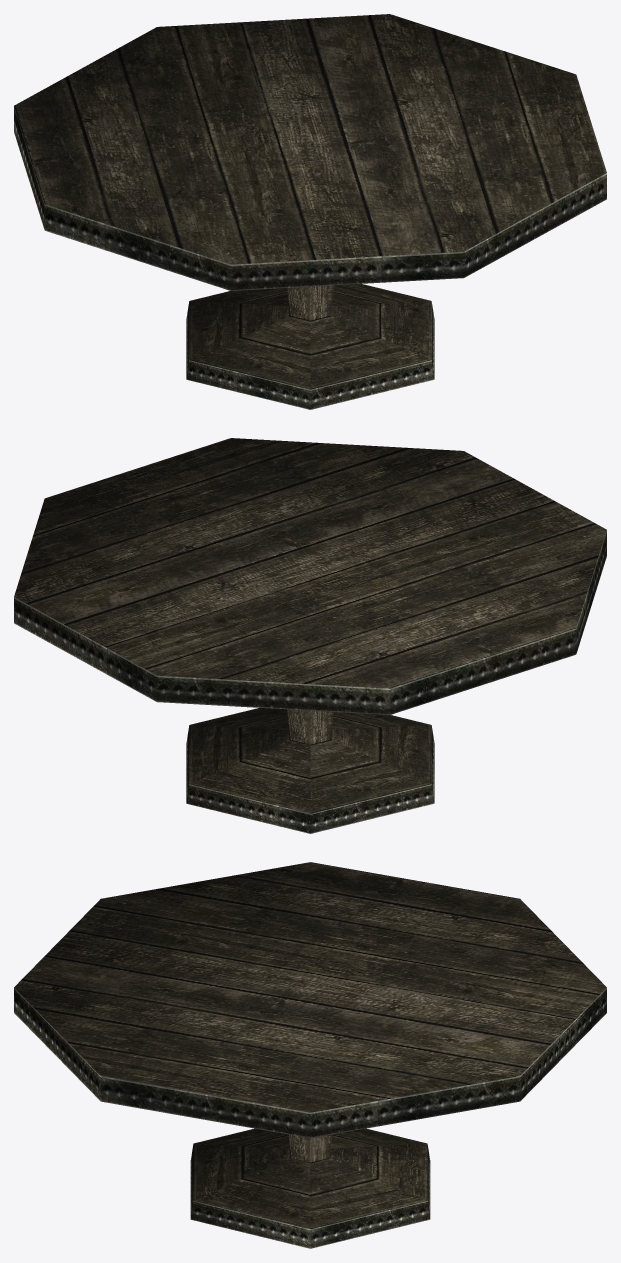
Rendered from DT_TABLE_01.glb.
3 renders of one model, top to bottom at view 1: azimuth 30°, elevation 25°; view 2: azimuth 150°, elevation 25°; view 3: azimuth 270°, elevation 25°, orthographic. The views are drawn at different scales.
Visible parts, largest first — view 1: Mesh; view 2: Mesh; view 3: Mesh.
Boxes of the visible parts, x1,y1,x2,y2 form: Mesh: [14, 14, 606, 409]; Mesh: [14, 438, 606, 833]; Mesh: [14, 862, 606, 1248].
Size of the model in its own units: 2.1 by 0.7932 by 2.1.
Materials: 2 (2 with a texture image).
